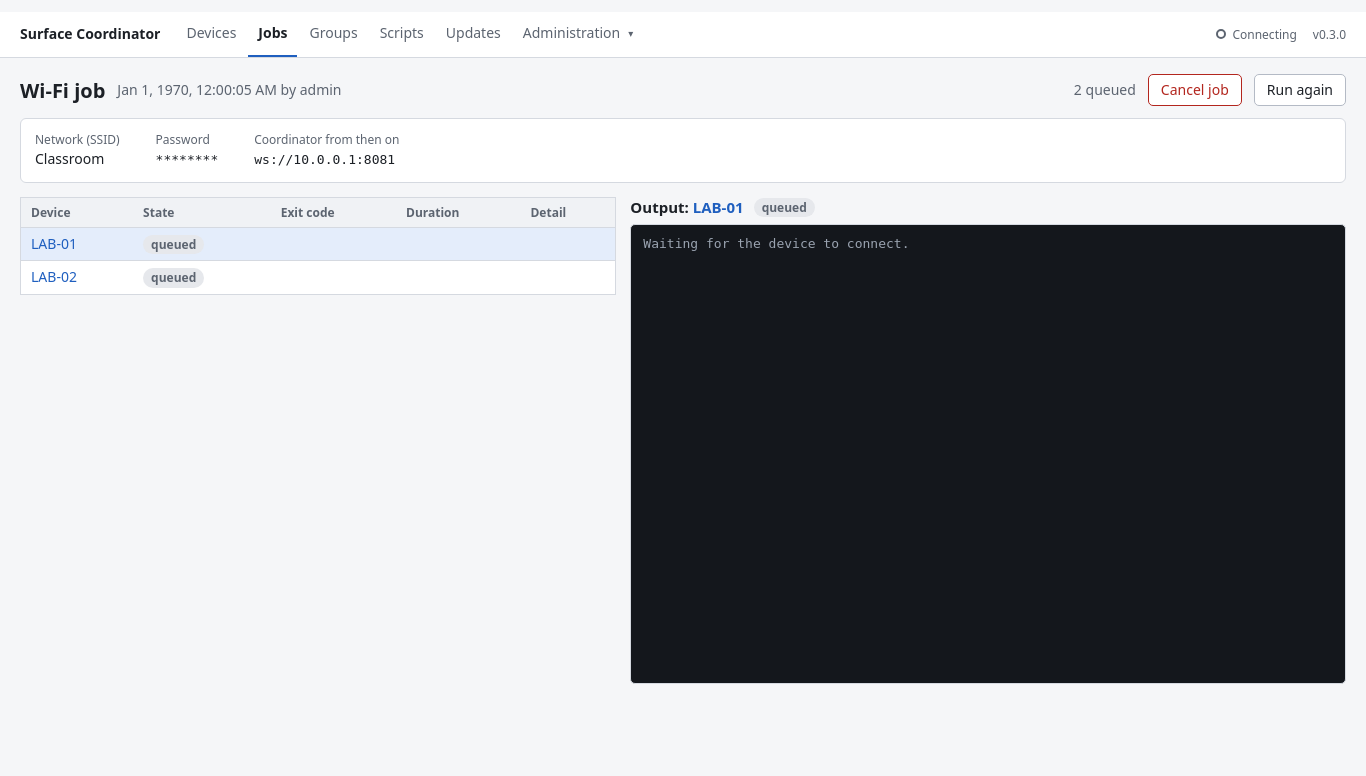
Test case: Move to Wi-Fi › runs a Wi-Fi job again with the form filled in except for the password
Check: the text "ws://10.0.0.1:8081" is shown, box [254,152,395,167]
Click the button "Run again": (1300,90) [1254,74,1346,106]
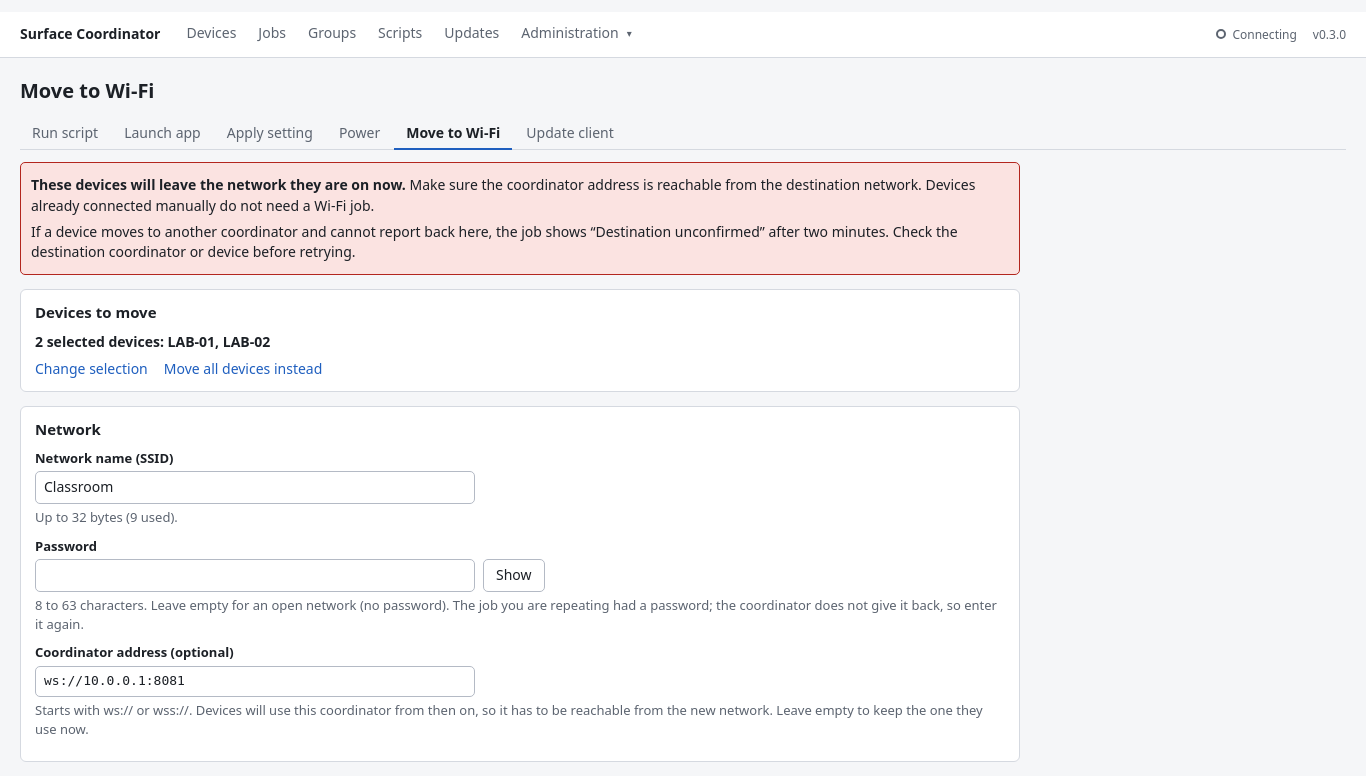
Check: the heading "Move to Wi-Fi" is shown, box [20,76,154,104]
Check: the field labelled "Network name (SSID)" holds "Classroom", box [35,471,475,504]
Check: the field labelled "Coordinator address (optional)" holds "ws://10.0.0.1:8081", box [35,666,475,697]
